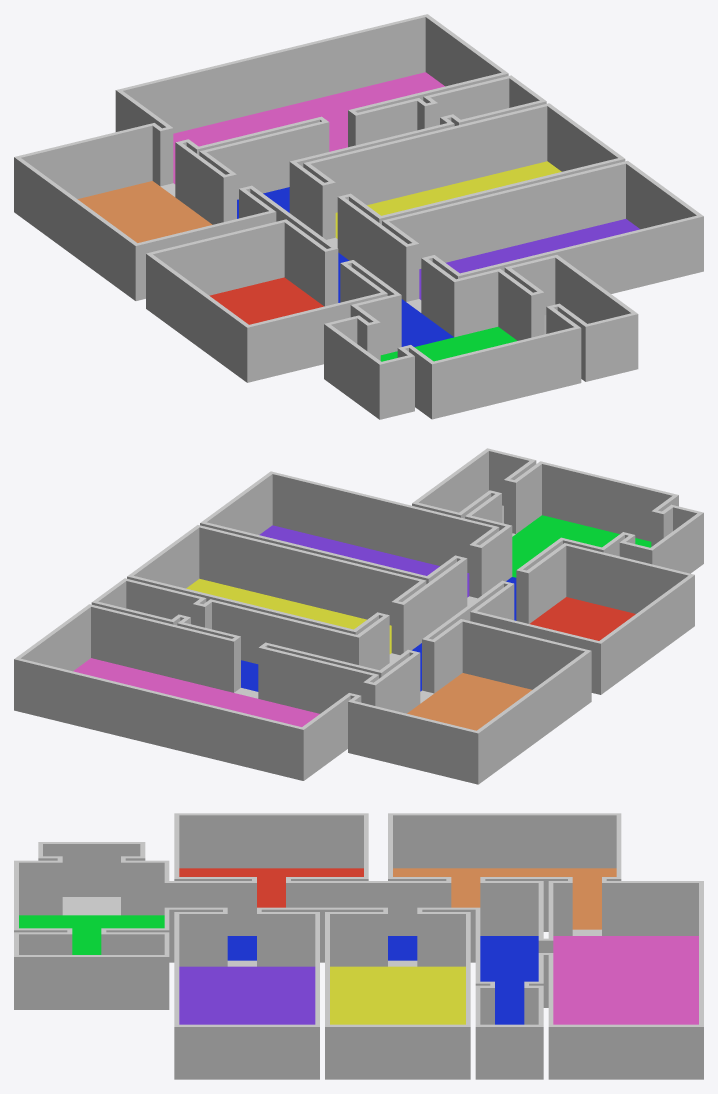
Rendered from Labo.fbx.
3 views of the same model, one above another, from view 1: azimuth 30°, elevation 25°; view 2: azimuth 150°, elevation 25°; view 3: azimuth 270°, elevation 25° (orthographic). The views are drawn at different scales.
Parts seen in each view (by area): view 1: Labo; view 2: Labo; view 3: Labo.
Boxes of the visible parts, x1,y1,x2,y2 form: Labo: [14, 14, 703, 419]; Labo: [14, 448, 703, 784]; Labo: [14, 813, 703, 1079].
Bounding box in the file's own units: 2600 × 300 × 3550.
